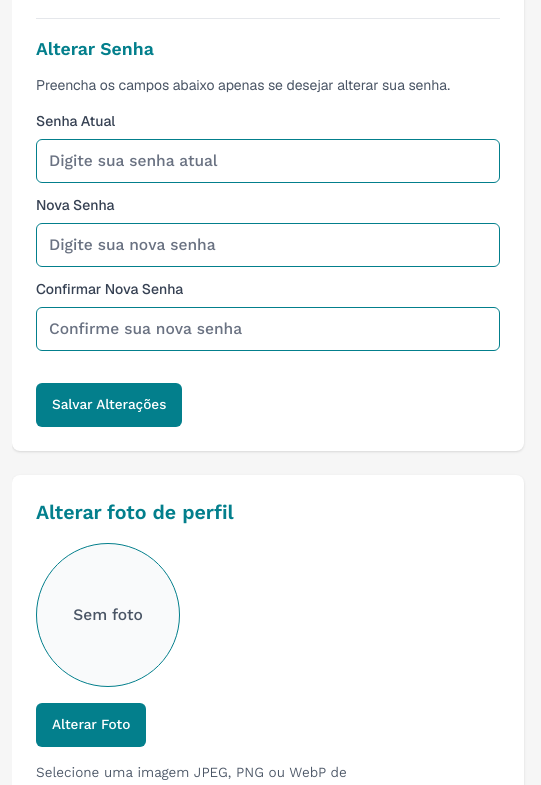
it: BEAPI-05 BEAPI-06 perfil e senha › consome envelope PATCH e envia apenas nome email CEP
The width and height of the screenshot is (541, 785).
(page scrolled)
Click the button "Salvar Alterações". click: point(109, 405)
box: [36, 383, 182, 427]
(page scrolled)
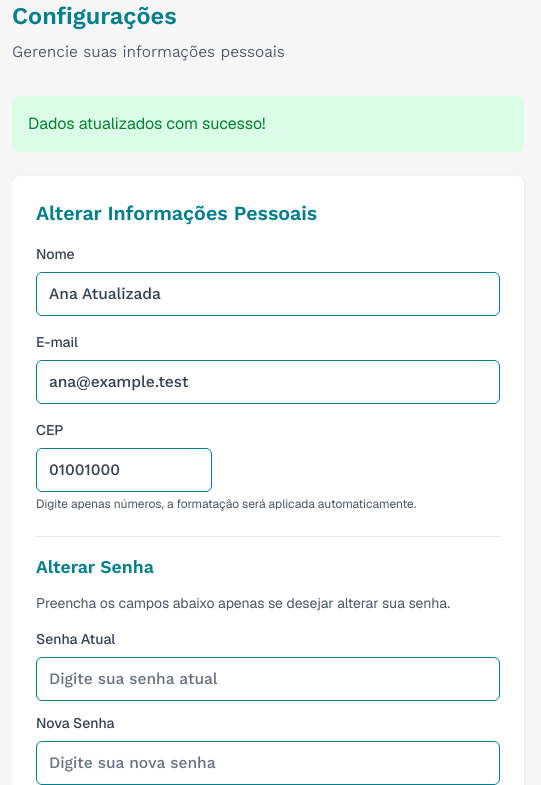
Now the text "Dados atualizados com sucesso!" is shown, box [12, 96, 524, 152]
Now the field showing "Ana Atualizada" is shown, box [36, 272, 500, 316]
